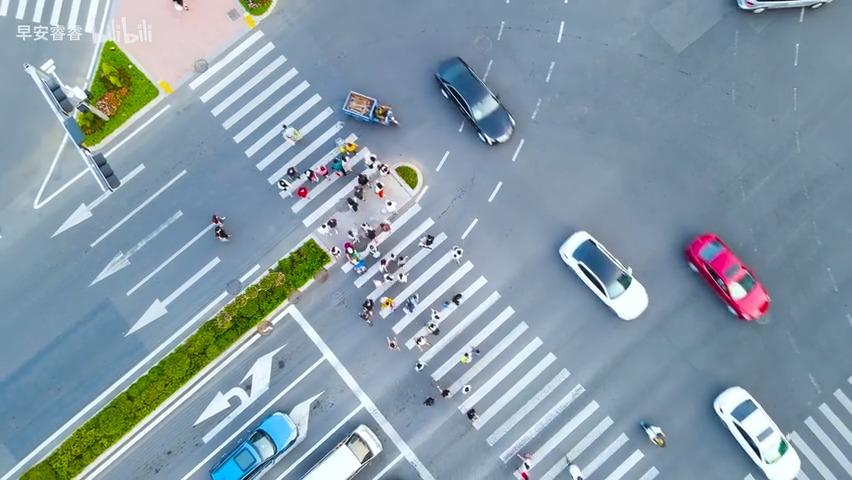Civilian: (639, 420, 666, 447), (345, 247, 366, 275), (329, 155, 352, 177), (281, 123, 301, 144), (337, 135, 359, 154), (343, 191, 359, 217), (376, 157, 395, 178), (312, 217, 329, 240), (211, 214, 226, 237), (392, 250, 411, 268), (315, 165, 331, 186), (403, 292, 419, 313), (353, 185, 368, 207), (383, 107, 399, 126), (367, 240, 381, 261), (340, 225, 358, 241), (415, 335, 431, 352), (379, 296, 396, 312), (516, 451, 532, 468), (380, 199, 398, 214), (355, 169, 369, 188), (450, 245, 463, 265), (568, 463, 584, 479), (418, 233, 433, 250), (516, 461, 530, 479), (376, 220, 393, 234), (215, 224, 229, 241), (386, 335, 400, 351), (327, 214, 340, 231), (361, 298, 374, 315), (367, 152, 379, 170), (363, 221, 374, 240), (326, 218, 338, 235), (286, 166, 299, 181), (303, 169, 318, 182), (436, 384, 450, 397), (466, 406, 478, 421), (172, 0, 188, 11), (653, 432, 665, 446), (330, 245, 341, 260), (78, 142, 91, 154), (277, 179, 290, 191), (374, 182, 386, 194), (459, 351, 470, 364), (396, 272, 409, 283), (414, 359, 424, 371), (452, 293, 462, 305), (423, 396, 434, 406), (469, 345, 480, 355), (462, 384, 471, 394)
